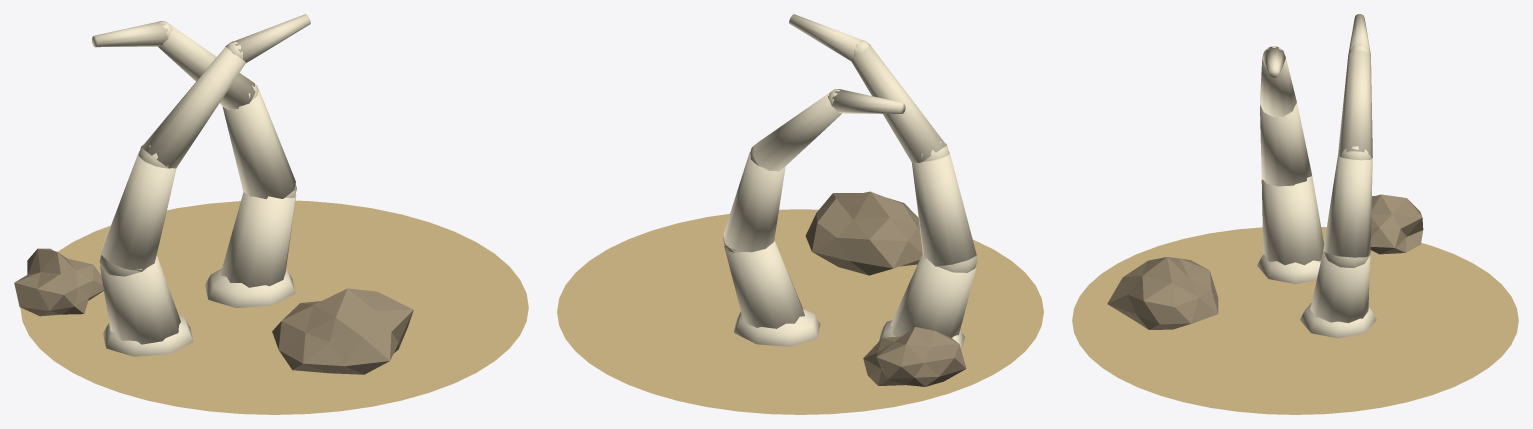
The model's file is resource_ivory.fbx.
The picture shows the model from 3 angles, left to right: view 1: azimuth 30°, elevation 25°; view 2: azimuth 150°, elevation 25°; view 3: azimuth 270°, elevation 25°; orthographic projection. The views are drawn at different scales.
Parts seen in each view (by area): view 1: resource_ivory_sg#d6bd88_00, resource_ivory_ivory_01, resource_ivory_rock#9a8a70_02; view 2: resource_ivory_sg#d6bd88_00, resource_ivory_ivory_01, resource_ivory_rock#9a8a70_02; view 3: resource_ivory_sg#d6bd88_00, resource_ivory_ivory_01, resource_ivory_rock#9a8a70_02.
Part boxes in pixels (x1,y1,x2,y2): resource_ivory_sg#d6bd88_00: (20,200,528,414); resource_ivory_ivory_01: (92,14,310,356); resource_ivory_rock#9a8a70_02: (14,248,413,374); resource_ivory_sg#d6bd88_00: (557,209,1043,414); resource_ivory_ivory_01: (723,14,977,350); resource_ivory_rock#9a8a70_02: (805,191,966,386); resource_ivory_sg#d6bd88_00: (1072,227,1518,414); resource_ivory_ivory_01: (1257,14,1376,338); resource_ivory_rock#9a8a70_02: (1107,194,1423,329).
Bounding box in the file's own units: 104 × 72.11 × 104.
